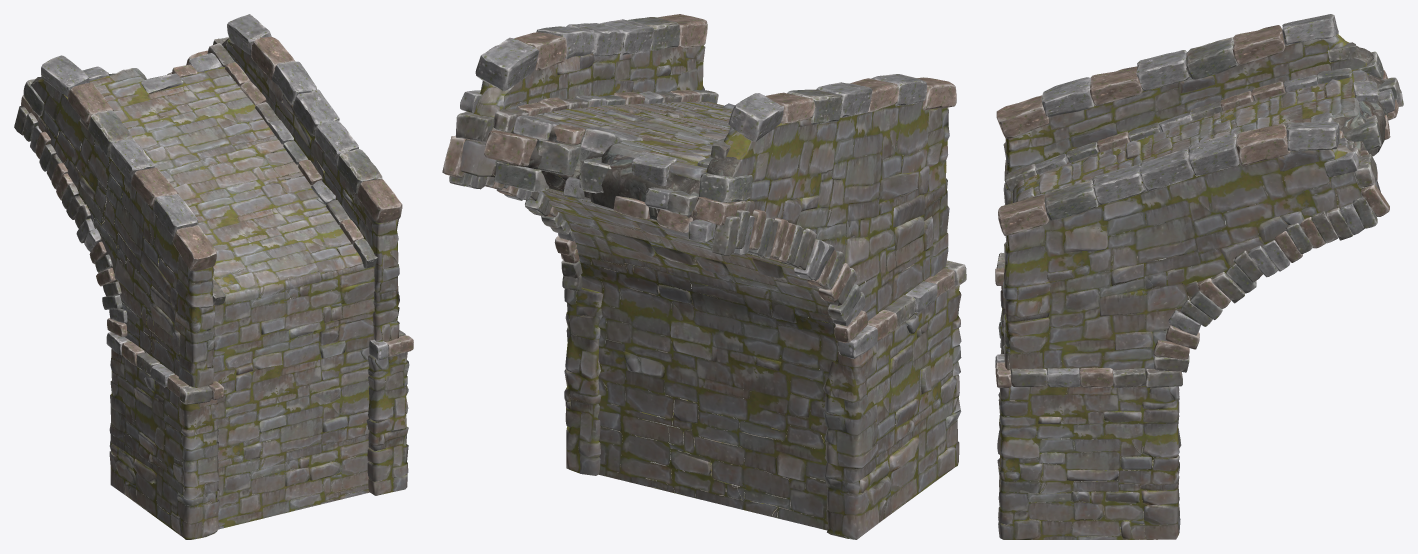
3 views of the same model, side by side, from view 1: azimuth 30°, elevation 25°; view 2: azimuth 150°, elevation 25°; view 3: azimuth 270°, elevation 25° (orthographic). The views are drawn at different scales.
Parts seen in each view (by area): view 1: SM_River_Bridge_01v2_LOD0; view 2: SM_River_Bridge_01v2_LOD0; view 3: SM_River_Bridge_01v2_LOD0.
Boxes of the visible parts, <box> form: SM_River_Bridge_01v2_LOD0: <box>14,14,413,539</box>; SM_River_Bridge_01v2_LOD0: <box>442,14,966,539</box>; SM_River_Bridge_01v2_LOD0: <box>995,14,1403,539</box>.
Bounding box in the file's own units: 5.56 × 8.69 × 7.76.
3 materials, 3 textured.
